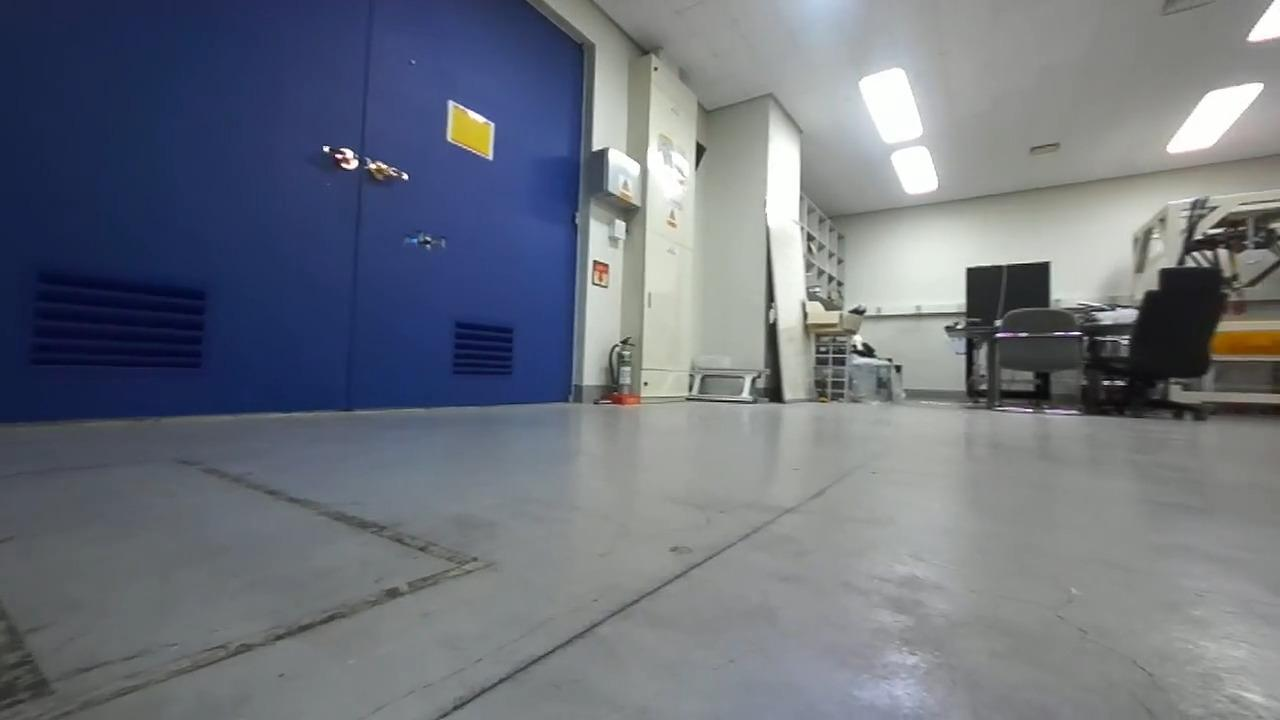crazyflie: (399, 229, 451, 253)
